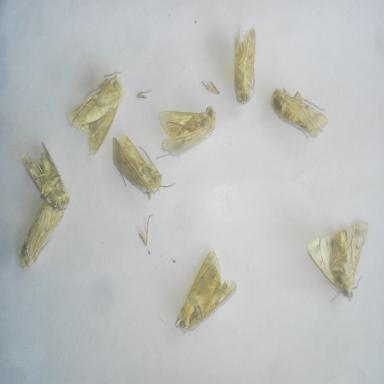abw: (305, 216, 372, 307), (174, 248, 240, 336), (108, 128, 178, 206), (66, 68, 124, 160), (15, 196, 69, 276), (18, 139, 75, 213), (153, 102, 221, 164), (269, 81, 332, 142), (228, 18, 262, 109)
